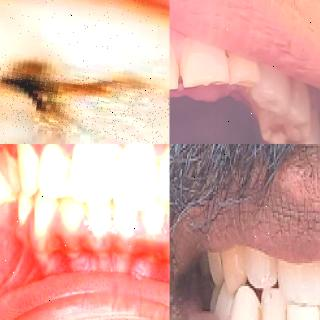Gum Swelling: (13, 208, 170, 255)
cavities: (0, 32, 155, 144)
maligned: (232, 280, 262, 320), (281, 300, 320, 319)
plaque: (50, 154, 79, 198), (13, 144, 37, 182), (104, 200, 124, 234), (0, 144, 18, 180), (74, 202, 94, 228)
stains: (251, 293, 267, 320)
